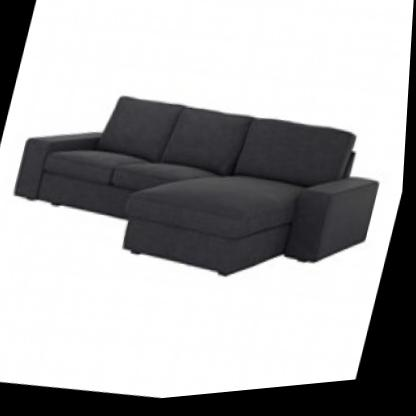Sofa: (0, 50, 401, 329)
